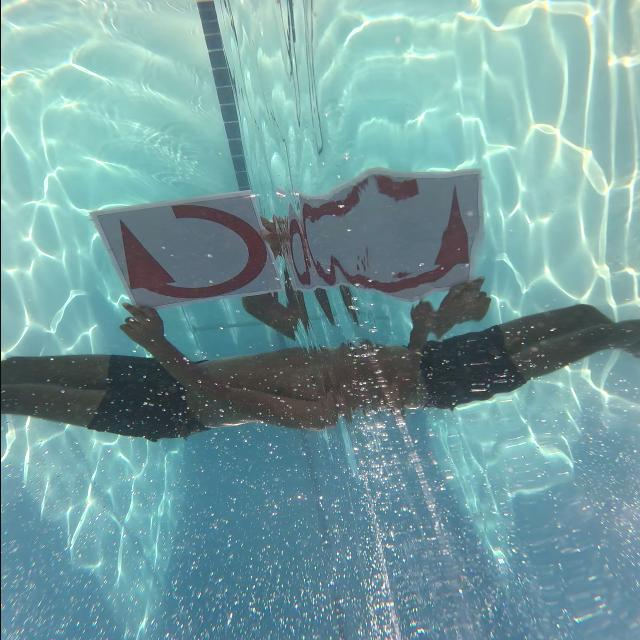red_side: (86, 182, 287, 324)
